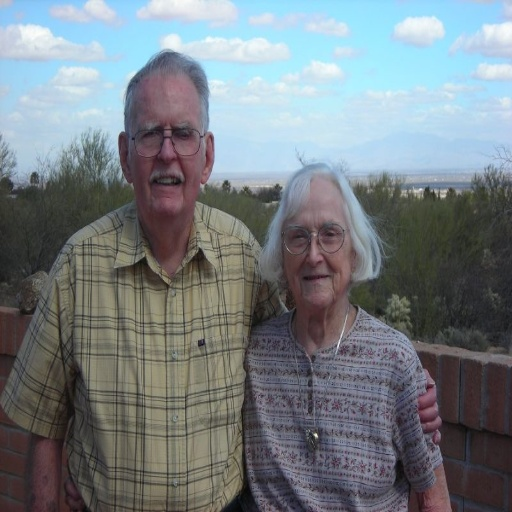hand: (416, 374, 442, 443), (65, 459, 88, 510)
